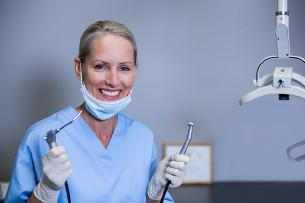WRONG: (86, 50, 136, 113)
